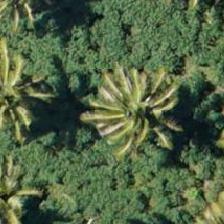coconut_tree: (93, 68, 183, 158), (0, 51, 56, 141)
